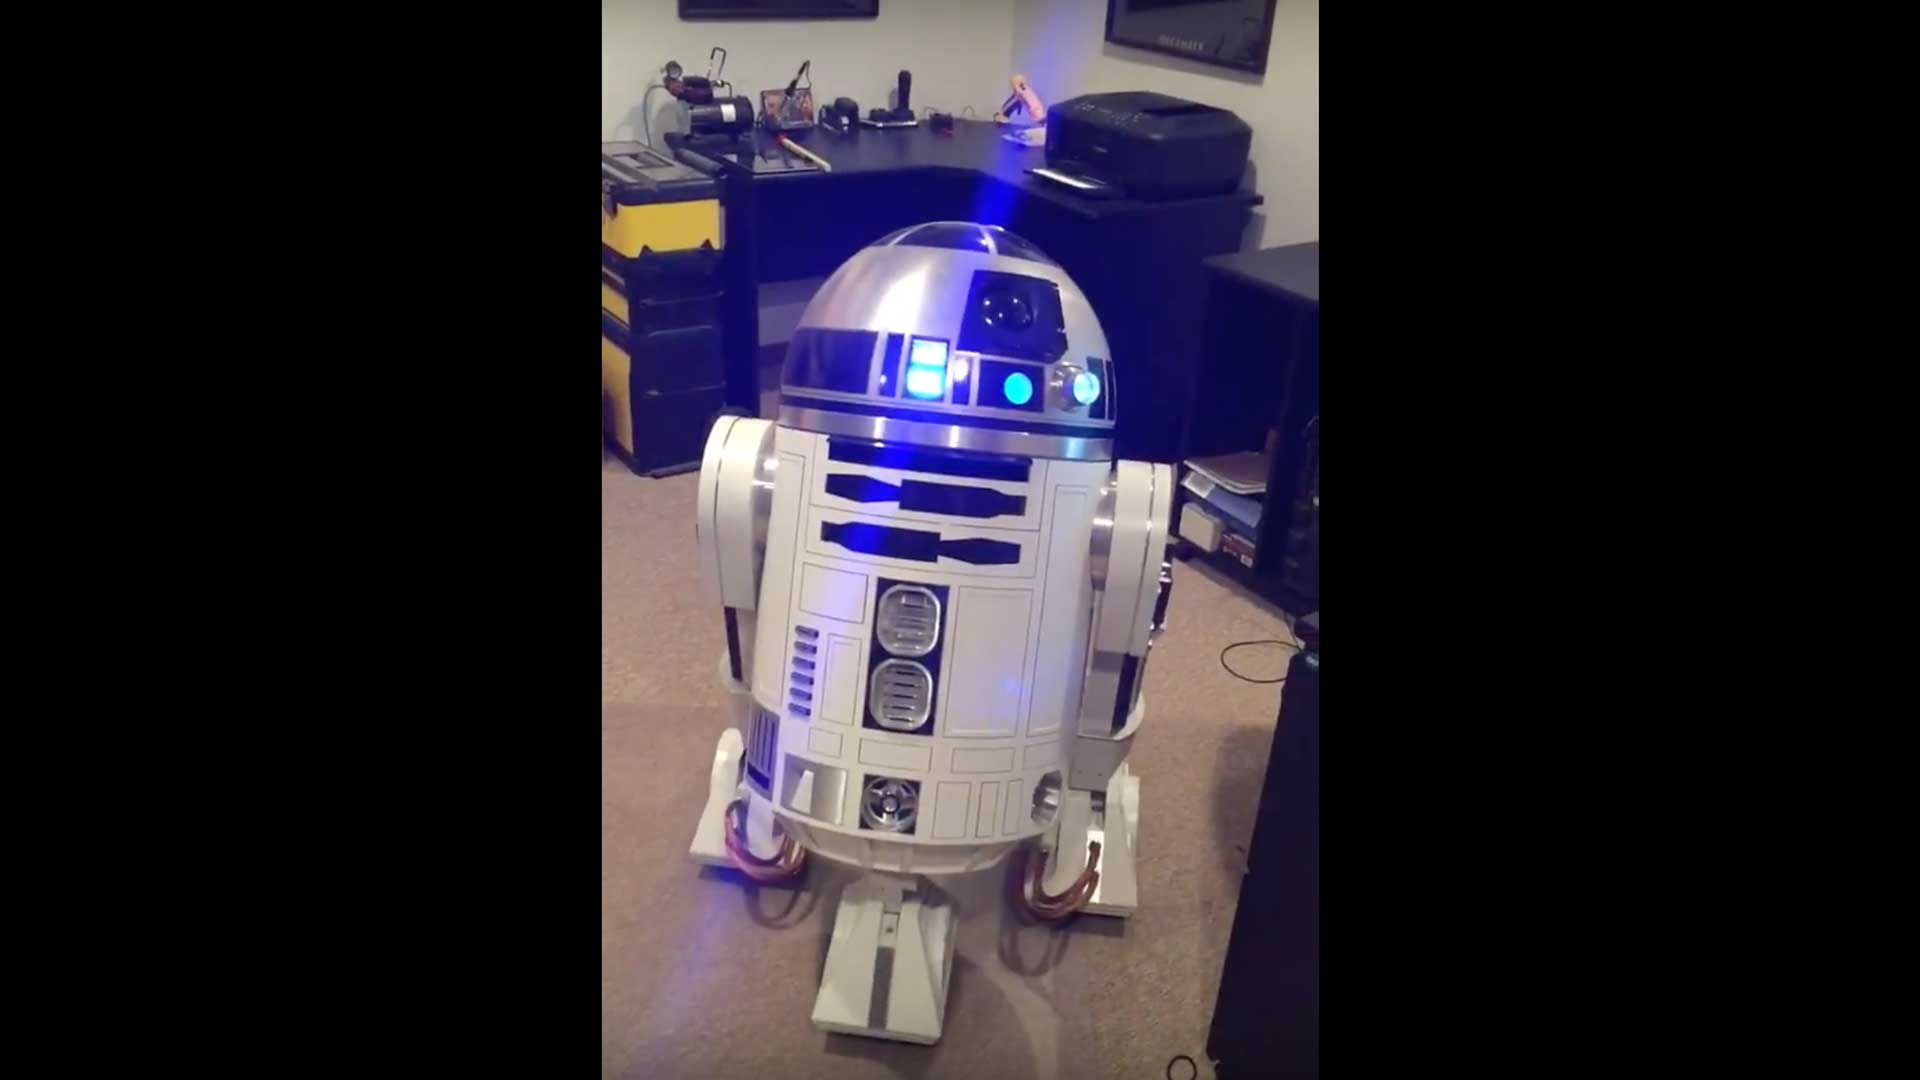r2d2: (707, 228, 1166, 1033)
